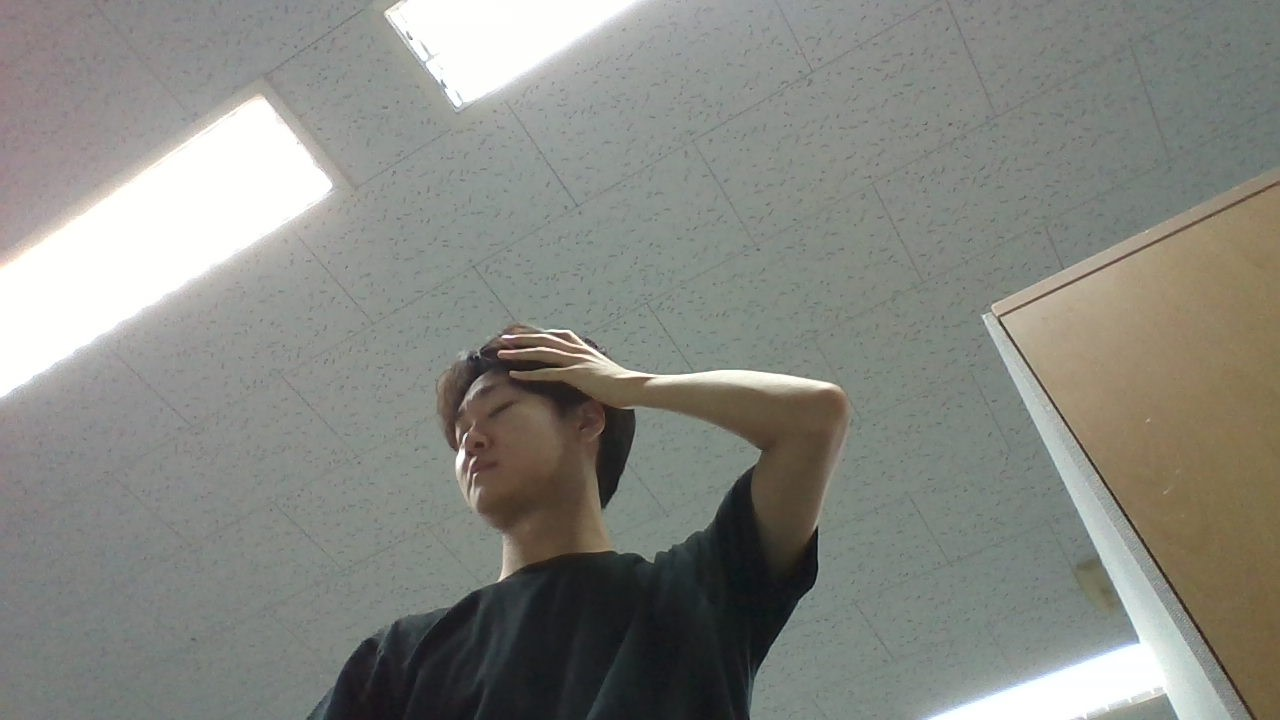Non-Helmet: (410, 316, 666, 554)
